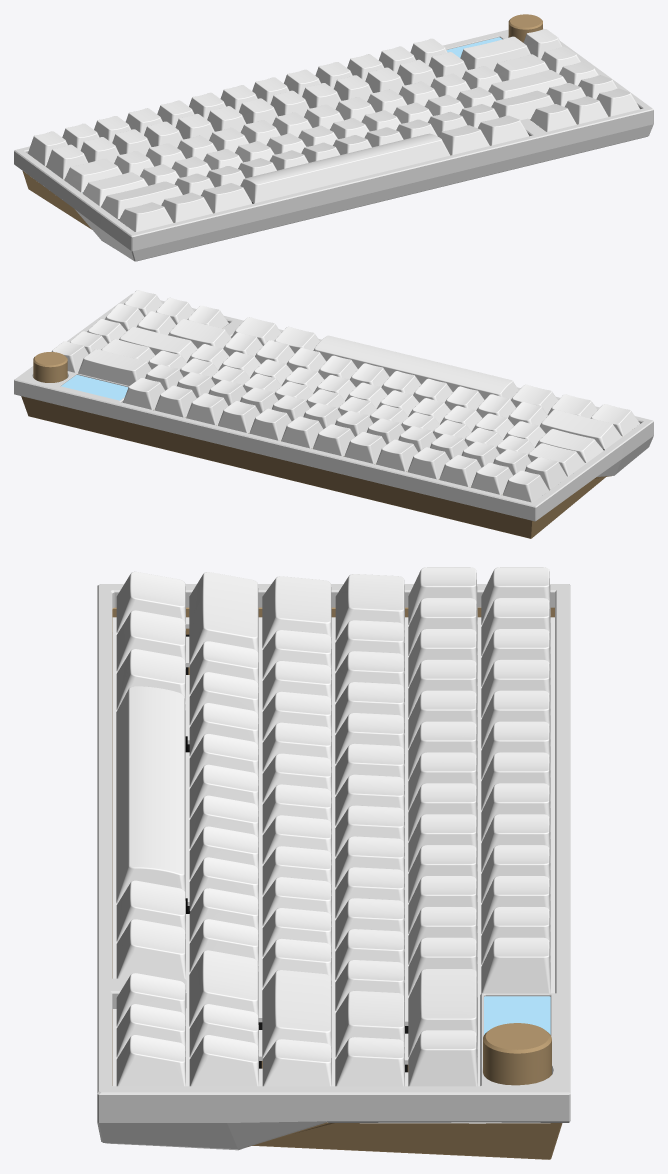
The model's file is keyboard.glb.
The picture shows the model from 3 angles, top to bottom: view 1: azimuth 30°, elevation 25°; view 2: azimuth 150°, elevation 25°; view 3: azimuth 270°, elevation 25°; orthographic projection. The views are drawn at different scales.
Visible parts, largest first — view 1: Top Case, K_SPACE, K_LSHIFT, K_BACKSPACE, K_ENTER, K_RSHIFT, K_CAPS, K_LCONTROL, K_TAB, K_LALT, K_LWIN, K_FN (+71 smaller); view 2: Top Case, Bottom Case, K_SPACE, K_BACKSPACE, K_LSHIFT, K_ENTER, K_RSHIFT, K_CAPS, K_ESC, Knob, K_F10, K_F12 (+72 smaller); view 3: Top Case, Plate, K_SPACE, Bottom Case, K_LSHIFT, K_ENTER, K_BACKSPACE, Knob, K_RSHIFT, K_CAPS, K_DEL, K_F11 (+73 smaller).
Part boxes in pixels (<box>): Top Case: <box>14,28,653,261</box>; K_SPACE: <box>240,133,450,203</box>; K_LSHIFT: <box>101,181,182,219</box>; K_BACKSPACE: <box>460,36,530,70</box>; K_ENTER: <box>488,70,566,100</box>; K_RSHIFT: <box>491,90,554,120</box>; K_CAPS: <box>82,172,148,206</box>; K_LCONTROL: <box>119,202,173,231</box>; K_TAB: <box>64,158,122,192</box>; K_LALT: <box>161,192,212,222</box>; K_LWIN: <box>201,183,252,212</box>; K_FN: <box>478,115,528,145</box>; Top Case: <box>14,293,653,521</box>; Bottom Case: <box>21,396,611,538</box>; K_SPACE: <box>313,335,518,399</box>; K_BACKSPACE: <box>78,349,151,385</box>; K_LSHIFT: <box>540,409,621,449</box>; K_ENTER: <box>119,326,197,362</box>; K_RSHIFT: <box>168,319,231,348</box>; K_CAPS: <box>535,429,603,462</box>; K_ESC: <box>502,470,548,502</box>; Knob: <box>33,352,67,382</box>; K_F10: <box>186,393,228,425</box>; K_F12: <box>154,385,196,417</box>; Top Case: <box>97,584,570,1150</box>; Plate: <box>112,617,554,1086</box>; K_SPACE: <box>116,686,185,903</box>; Bottom Case: <box>112,607,562,1159</box>; K_LSHIFT: <box>189,572,258,664</box>; K_ENTER: <box>262,970,331,1057</box>; K_BACKSPACE: <box>408,969,477,1057</box>; Knob: <box>483,1023,551,1085</box>; K_RSHIFT: <box>189,950,258,1026</box>; K_CAPS: <box>262,576,331,648</box>; K_DEL: <box>408,1030,477,1086</box>; K_F11: <box>481,937,550,993</box>.
Bounding box in the file's own units: 0.3151 × 0.0319 × 0.1235.
